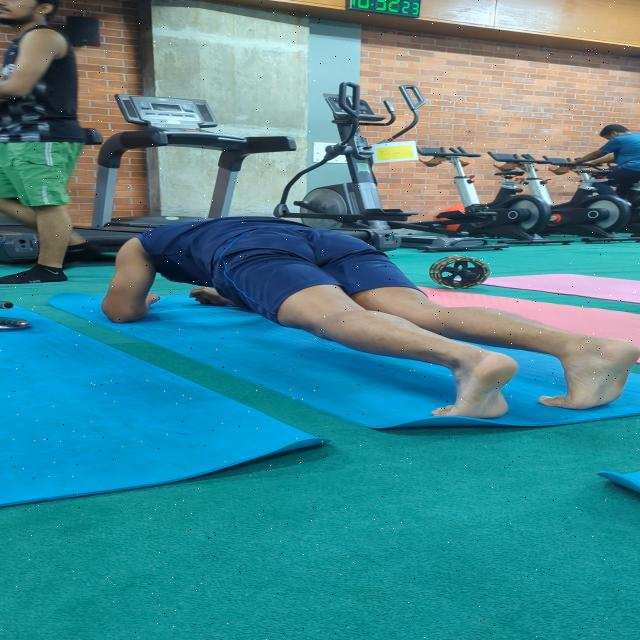Normal_Plunk: (81, 210, 640, 424)
